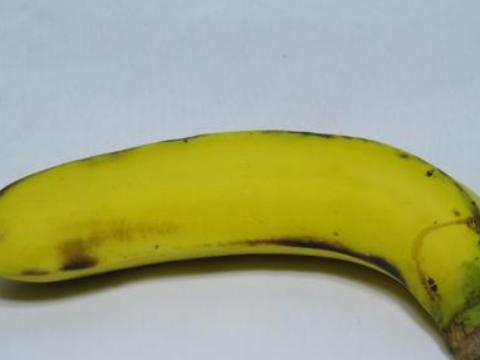freshripe: (0, 116, 479, 359)
